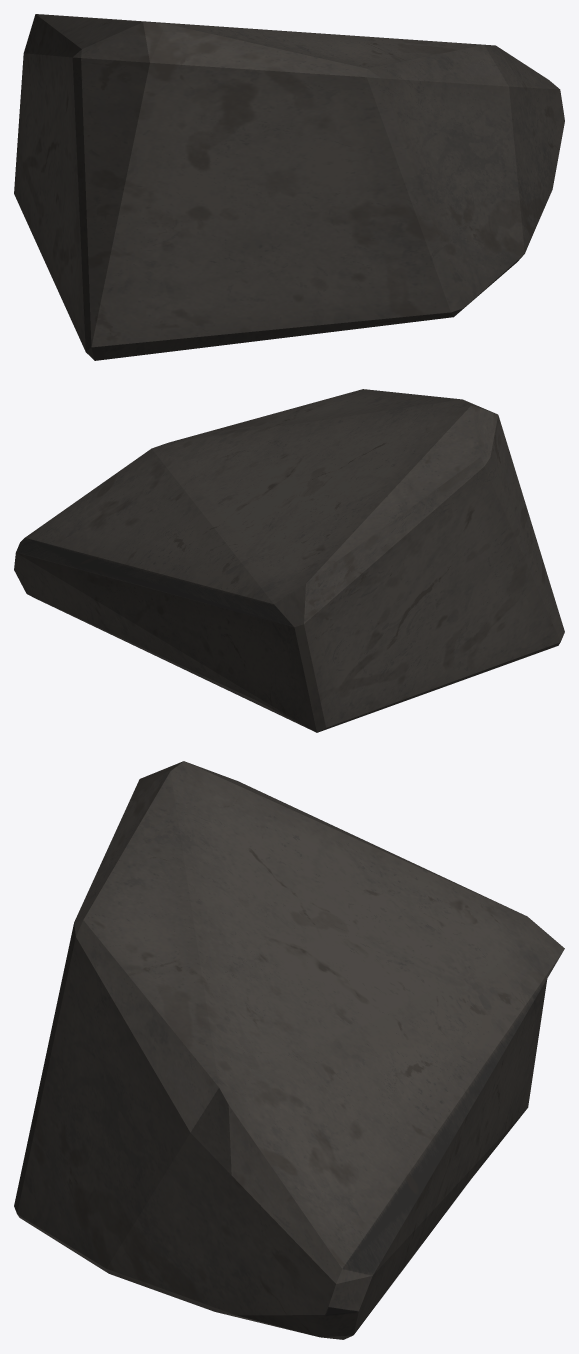
File: rock1.fbx
3 renders of one model, top to bottom at view 1: azimuth 30°, elevation 25°; view 2: azimuth 150°, elevation 25°; view 3: azimuth 270°, elevation 25°, orthographic. The views are drawn at different scales.
Parts seen in each view (by area): view 1: 1; view 2: 1; view 3: 1.
Part boxes in pixels (x1,y1,x2,y2): 1: (14,14,564,360); 1: (14,389,564,732); 1: (14,761,564,1339).
Size of the model in its own units: 141 by 70.72 by 107.
1 material, 1 textured.
